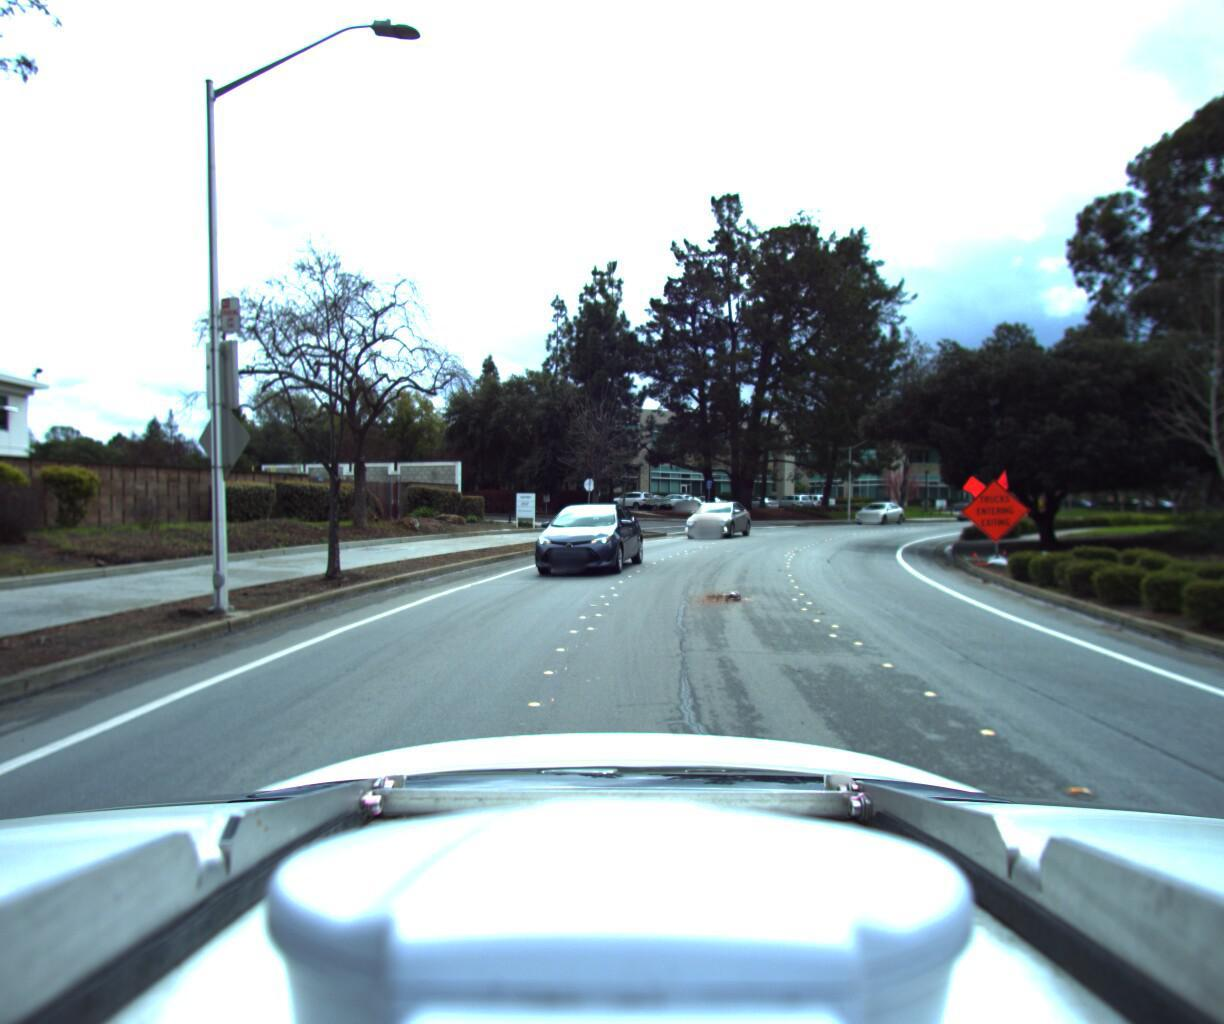car: (524, 500, 648, 576), (675, 493, 749, 534), (849, 495, 902, 524)
